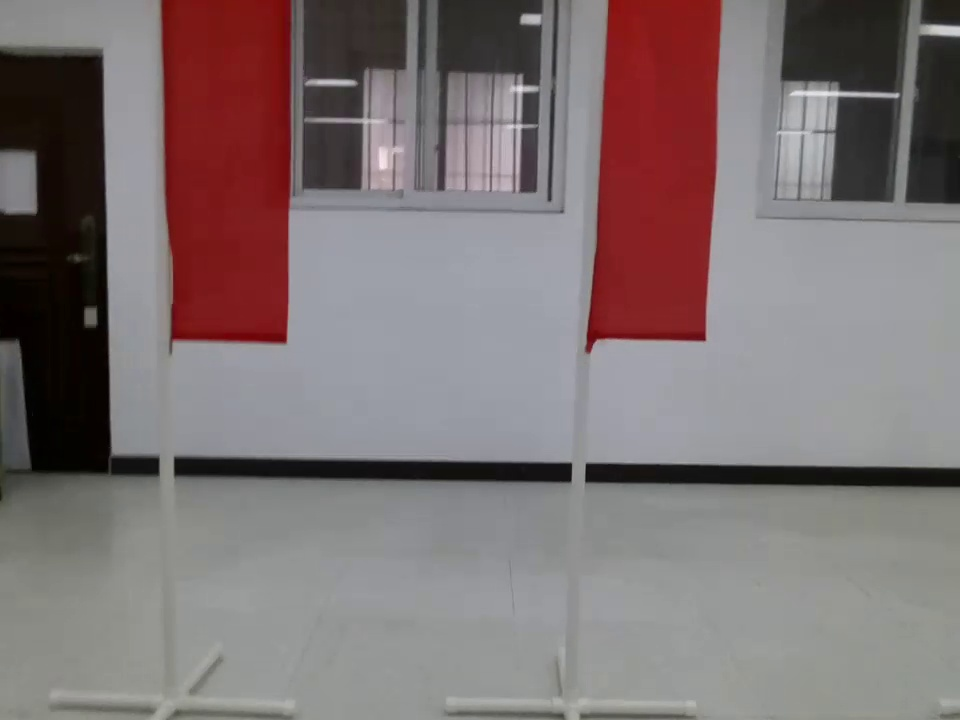qi: (581, 1, 720, 346), (167, 1, 297, 346)
